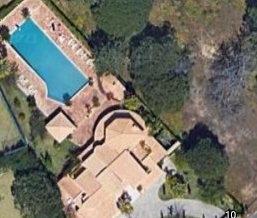pool: (18, 29, 76, 92)
